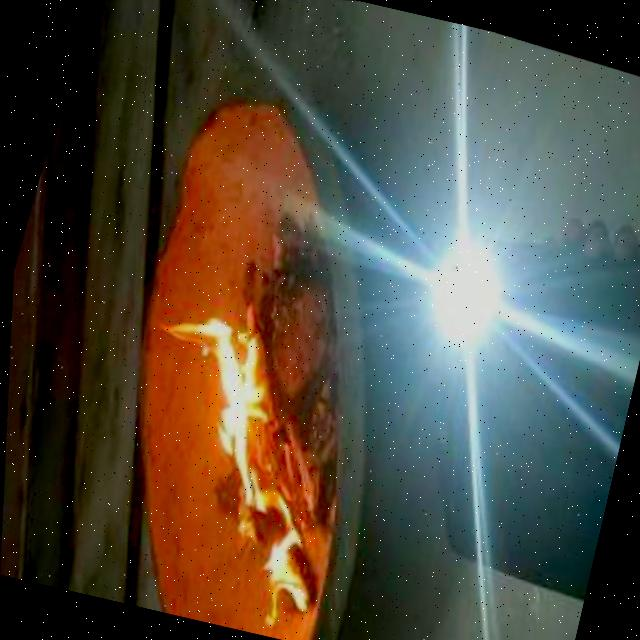fire: (104, 297, 364, 638)
